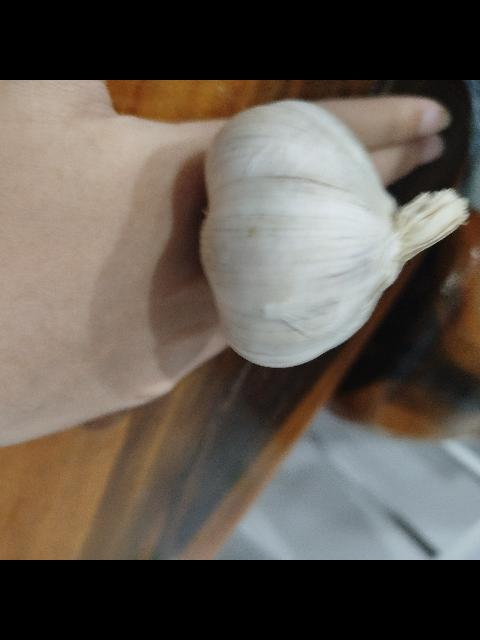garlic: (198, 99, 470, 369)
